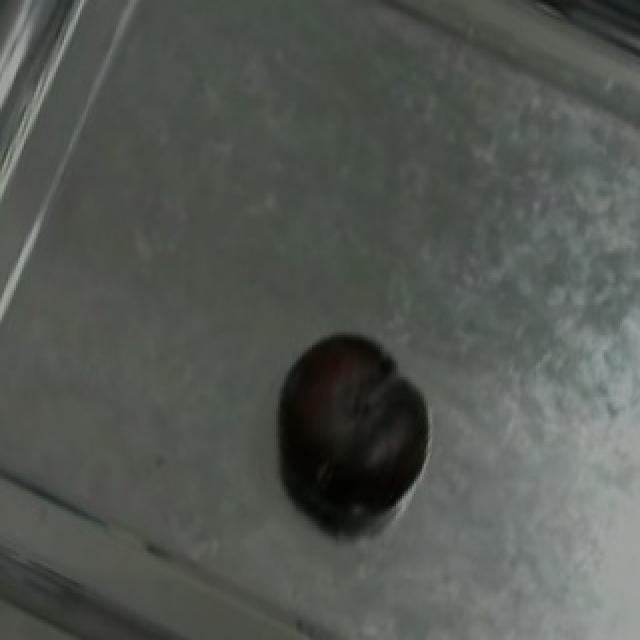Fruit: (262, 317, 436, 536)
